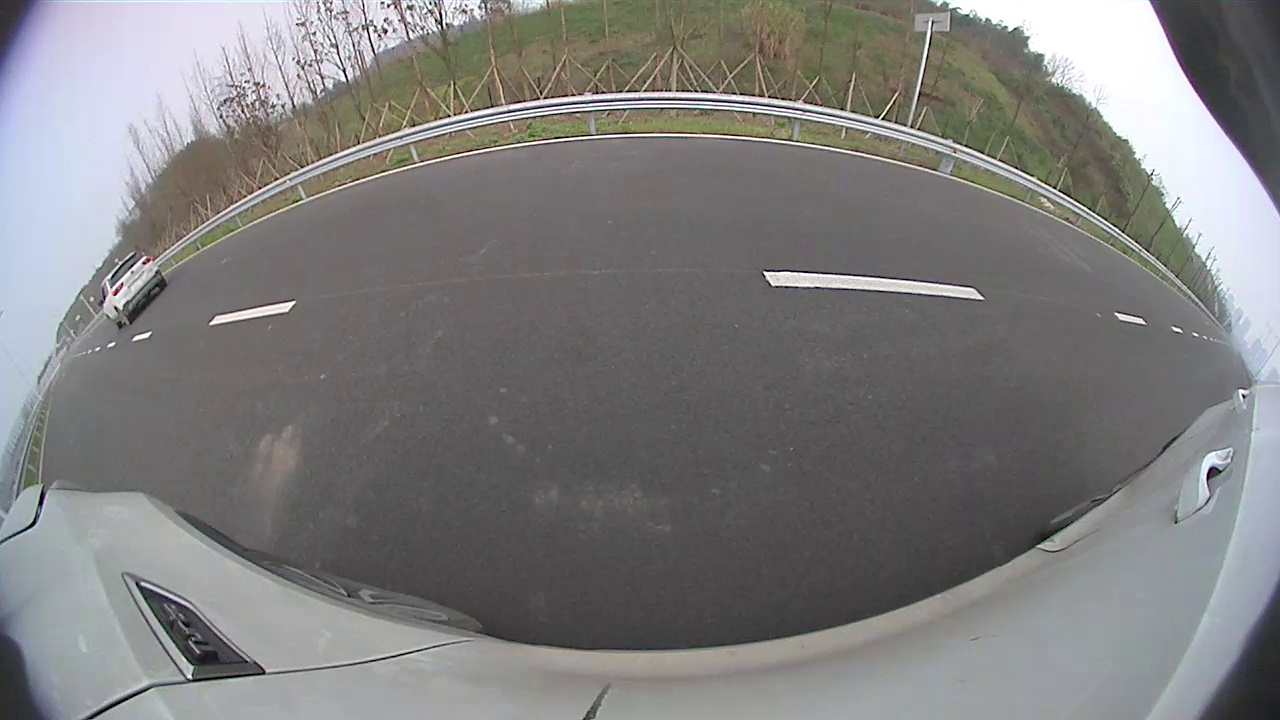car: (697, 145, 777, 201)
front: (698, 173, 708, 194)
rear: (713, 171, 725, 197)
